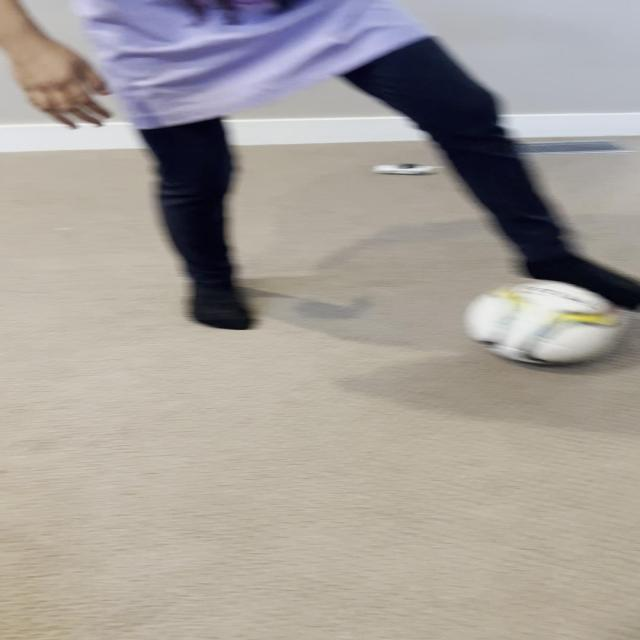Soccer Ball: (464, 279, 628, 365)
